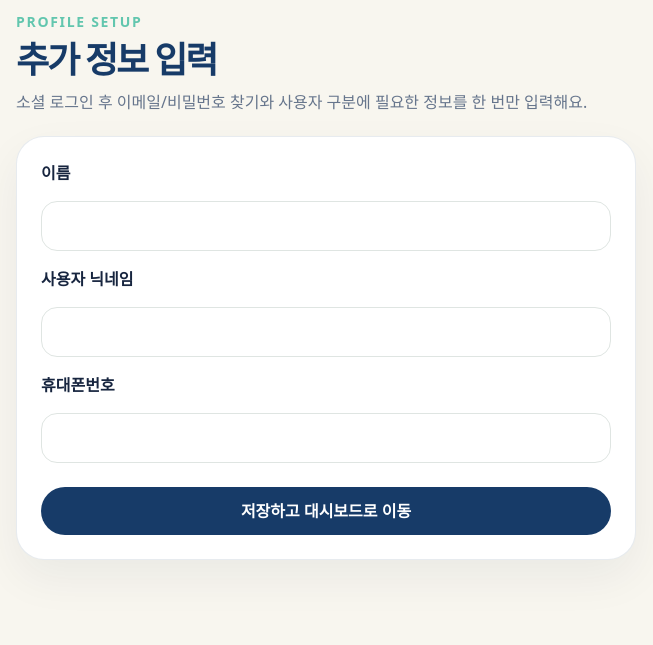
Test case: ProfileSetupPage › shows a nickname length guide before saving
The width and height of the screenshot is (653, 645).
In the field labelled "이름": x=326, y=226 [41,201,611,251], type "유영찬"
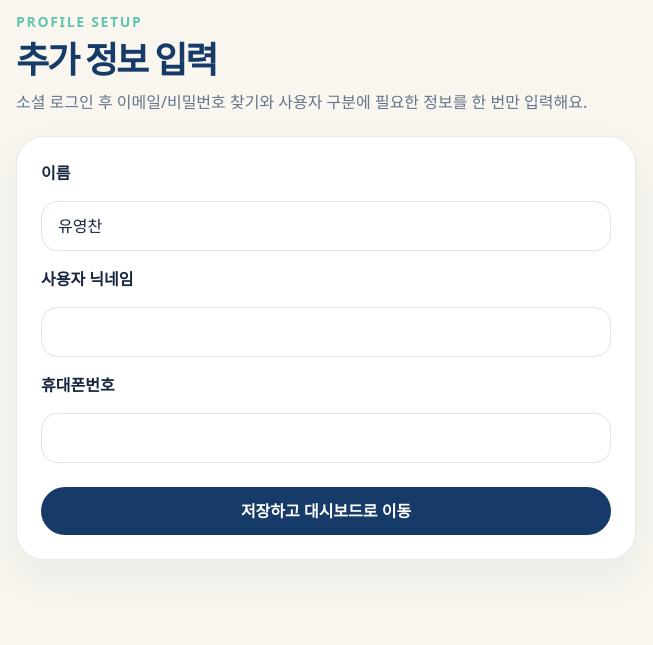
In the field labelled "사용자 닉네임": x=326, y=332 [41,307,611,357], type "길이가긴닉네임입니다요"
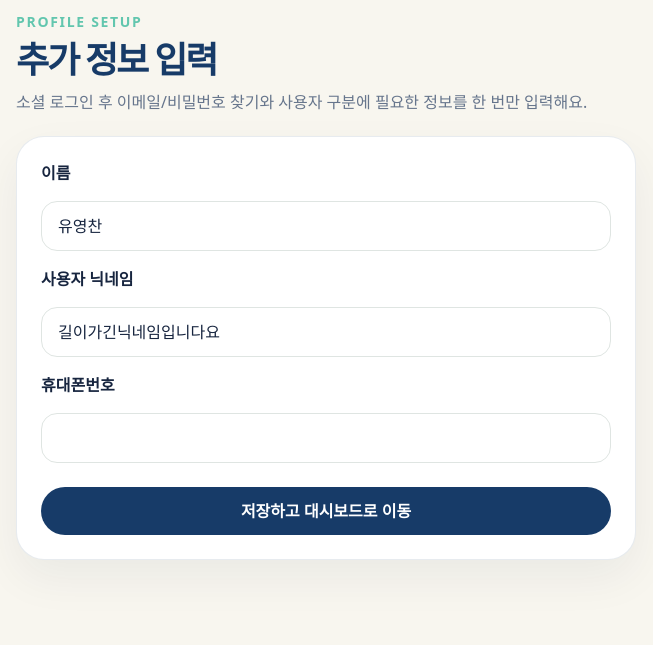
In the field labelled "휴대폰번호": x=326, y=438 [41,413,611,463], type "010-1234-5678"
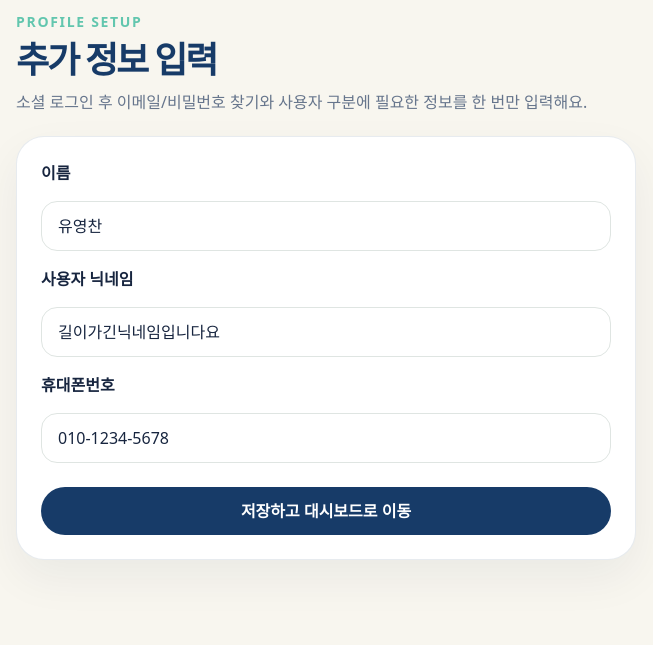
Click the button "저장하고 대시보드로 이동": x=326, y=511 [41,487,611,535]
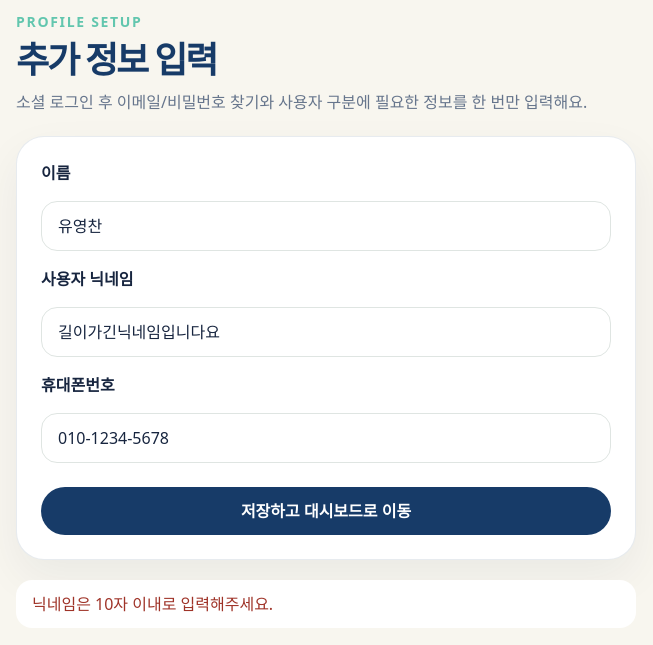
Expected: the message reads "닉네임은 10자 이내로 입력해주세요.", [32,593,273,615]
